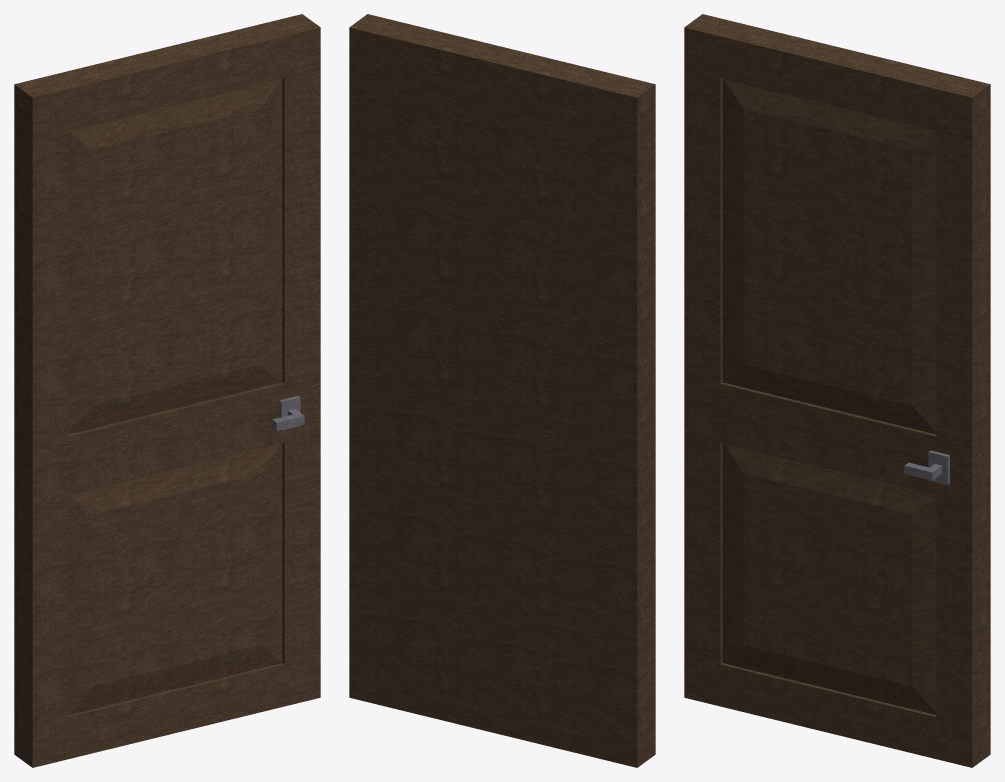
Rendered from door.glb.
3 renders of one model, left to right at view 1: azimuth 30°, elevation 25°; view 2: azimuth 150°, elevation 25°; view 3: azimuth 330°, elevation 25°, orthographic.
Parts seen in each view (by area): view 1: Door; view 2: Door; view 3: Door.
Boxes of the visible parts, left/top/right/bottom form: Door: left=14, top=14, right=320, bottom=767; Door: left=349, top=14, right=655, bottom=767; Door: left=684, top=14, right=990, bottom=767.
Size of the model in its own units: 0.9 by 2 by 0.1644.
2 materials, 2 textured.
